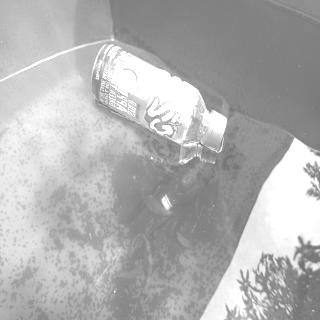bottle: (90, 40, 228, 151)
